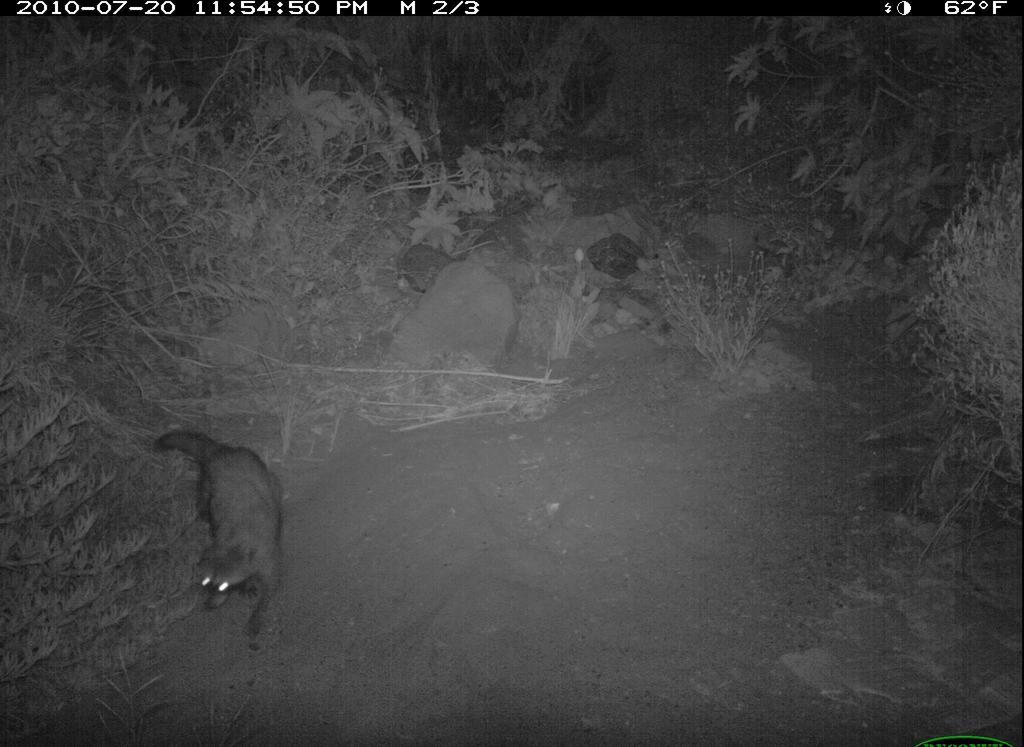raccoon: (146, 422, 292, 651)
